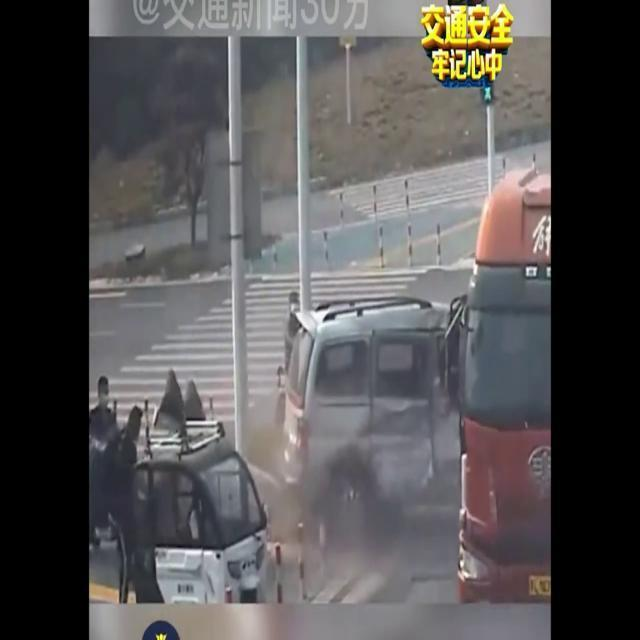accident: (280, 304, 478, 544)
